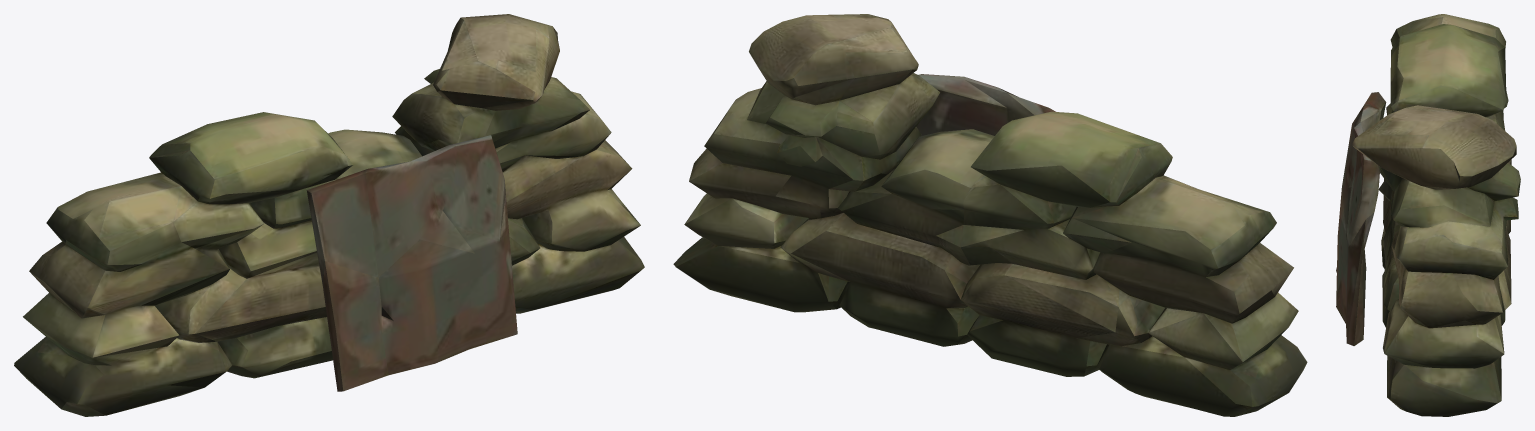
The model's file is prop_sandbags.glb.
3 views of the same model, side by side, from view 1: azimuth 30°, elevation 25°; view 2: azimuth 150°, elevation 25°; view 3: azimuth 270°, elevation 25° (orthographic). The views are drawn at different scales.
Bounding box in the file's own units: 1.89 × 0.8602 × 0.5654.
Materials: 1 (1 with a texture image).
